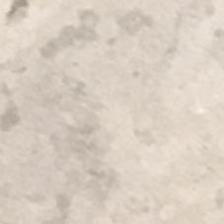Crack: (0, 0, 157, 59)
Non_Crack: (125, 64, 224, 218)
